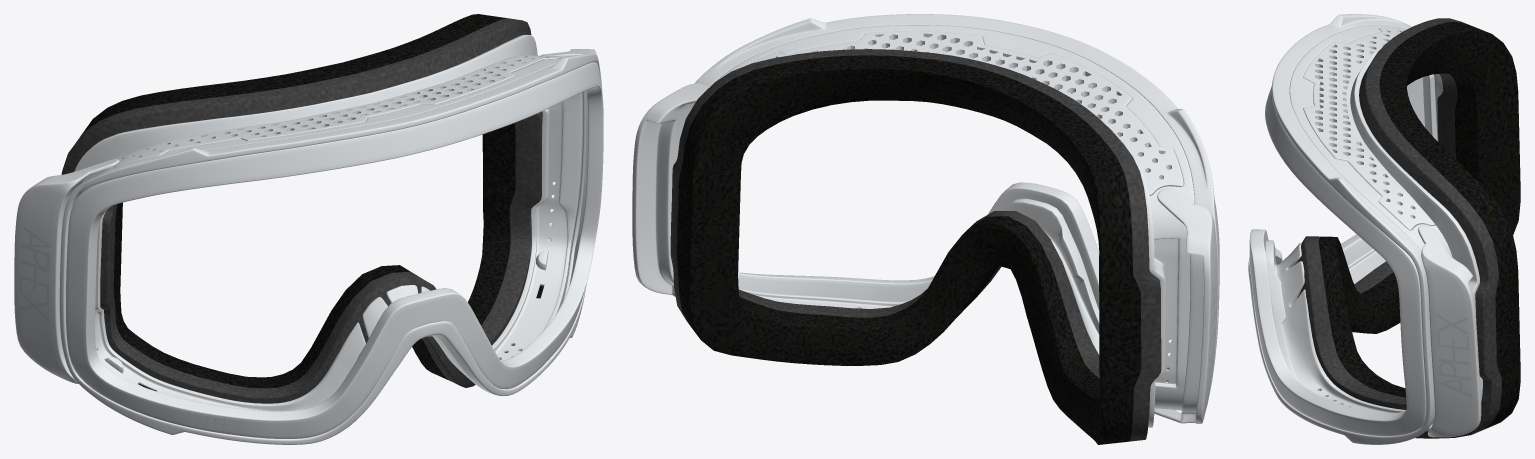
File: FRAME_Orion_MOOR018_001.glb
3 views of the same model, side by side, from view 1: azimuth 30°, elevation 25°; view 2: azimuth 150°, elevation 25°; view 3: azimuth 270°, elevation 25° (orthographic). The views are drawn at different scales.
Parts seen in each view (by area): view 1: Full_rim_geometry, Frame-Add_Frame-01_geometry_geometry; view 2: Frame-Add_Frame-01_geometry_geometry, Full_rim_geometry; view 3: Full_rim_geometry, Frame-Add_Frame-01_geometry_geometry.
Part boxes in pixels (box(x1,y1,x2,y2)): Full_rim_geometry: box(14, 34, 603, 444); Frame-Add_Frame-01_geometry_geometry: box(61, 14, 543, 403); Frame-Add_Frame-01_geometry_geometry: box(670, 49, 1161, 444); Full_rim_geometry: box(632, 14, 1219, 427); Full_rim_geometry: box(1248, 14, 1482, 444); Frame-Add_Frame-01_geometry_geometry: box(1295, 18, 1520, 438).
Size of the model in its own units: 0.1888 by 0.0991 by 0.0858.
Materials: 1 (1 with a texture image).
